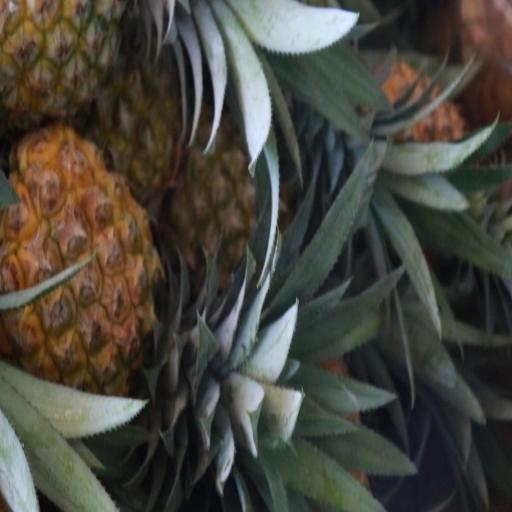Pineapple - v8 v1: (1, 129, 181, 401), (170, 96, 288, 290)
